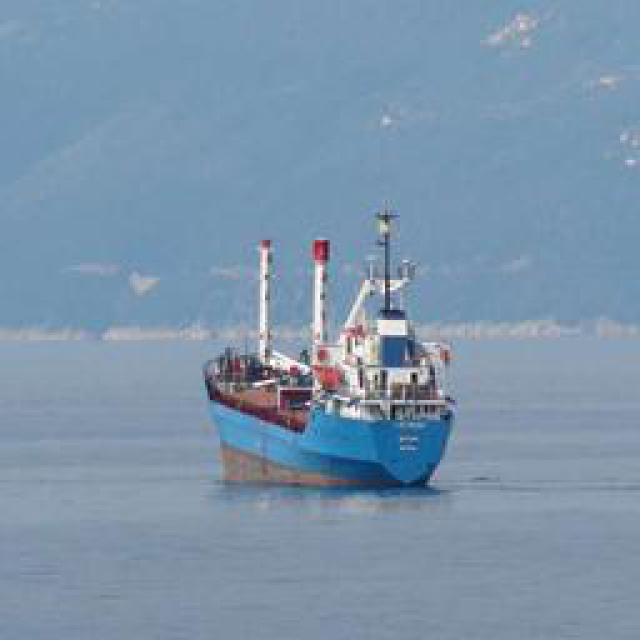Ship: (204, 194, 464, 499)
